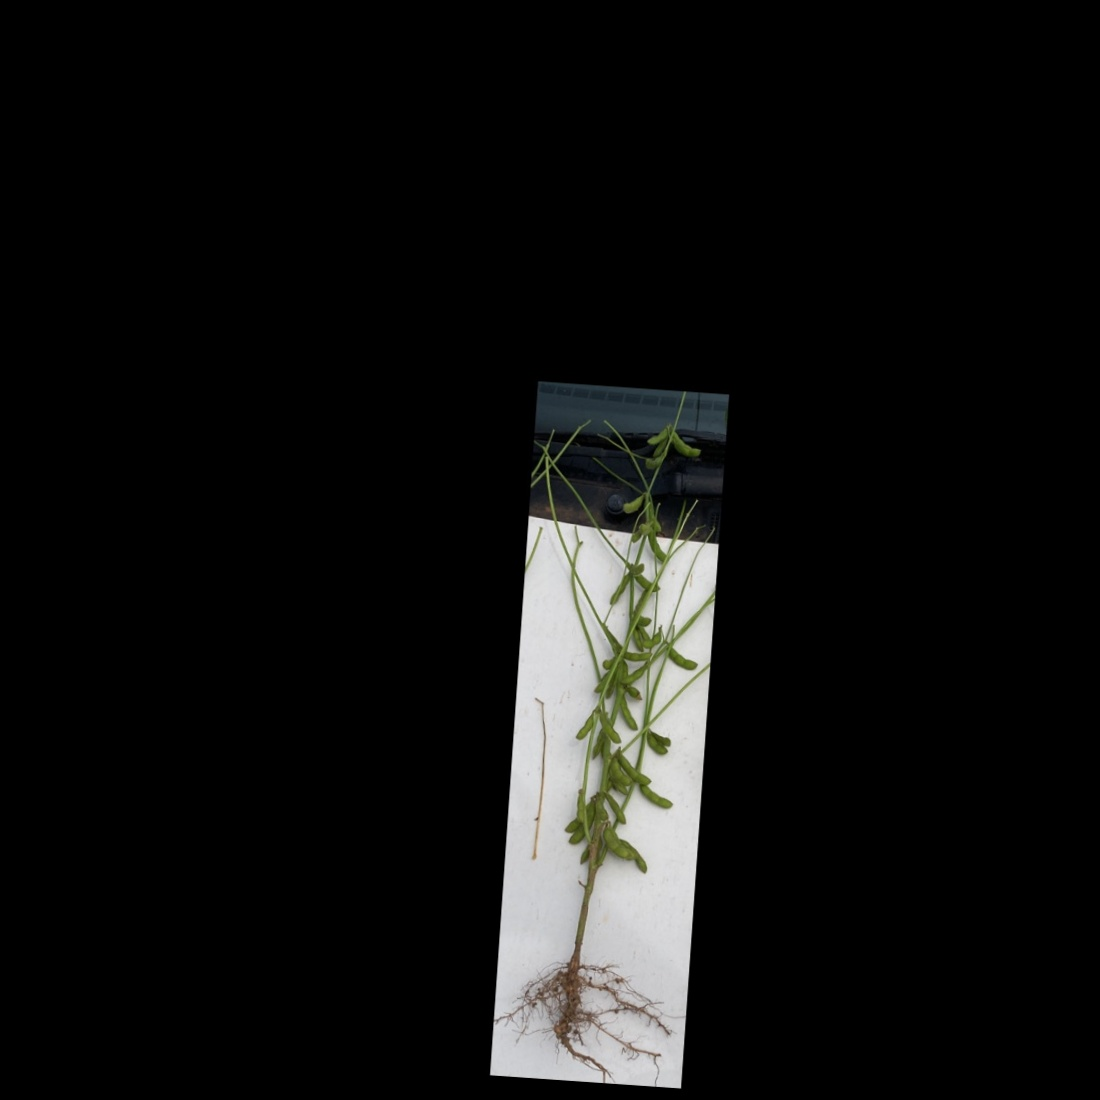pod: (612, 751, 655, 787), (591, 708, 624, 747), (598, 826, 634, 861), (634, 782, 676, 811), (666, 644, 701, 672), (617, 693, 641, 735), (618, 659, 650, 688), (573, 706, 594, 744), (645, 732, 670, 757)
soy: (504, 396, 720, 1052)
